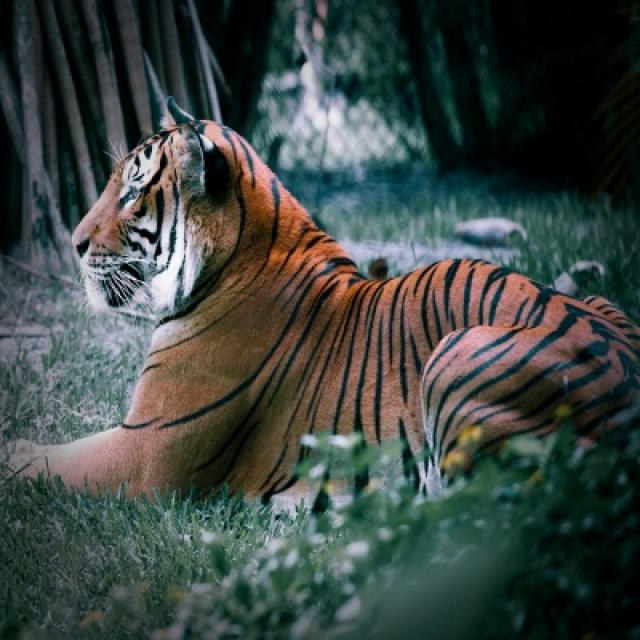Tiger: (11, 101, 638, 498)
